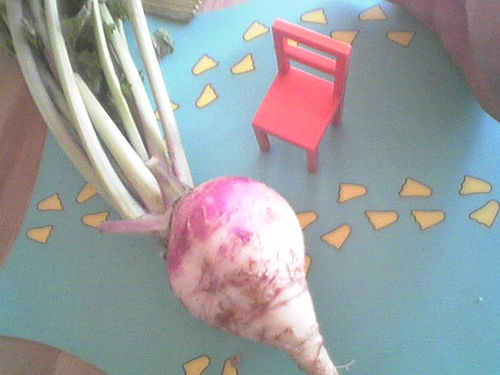turnip: (163, 174, 340, 374)
